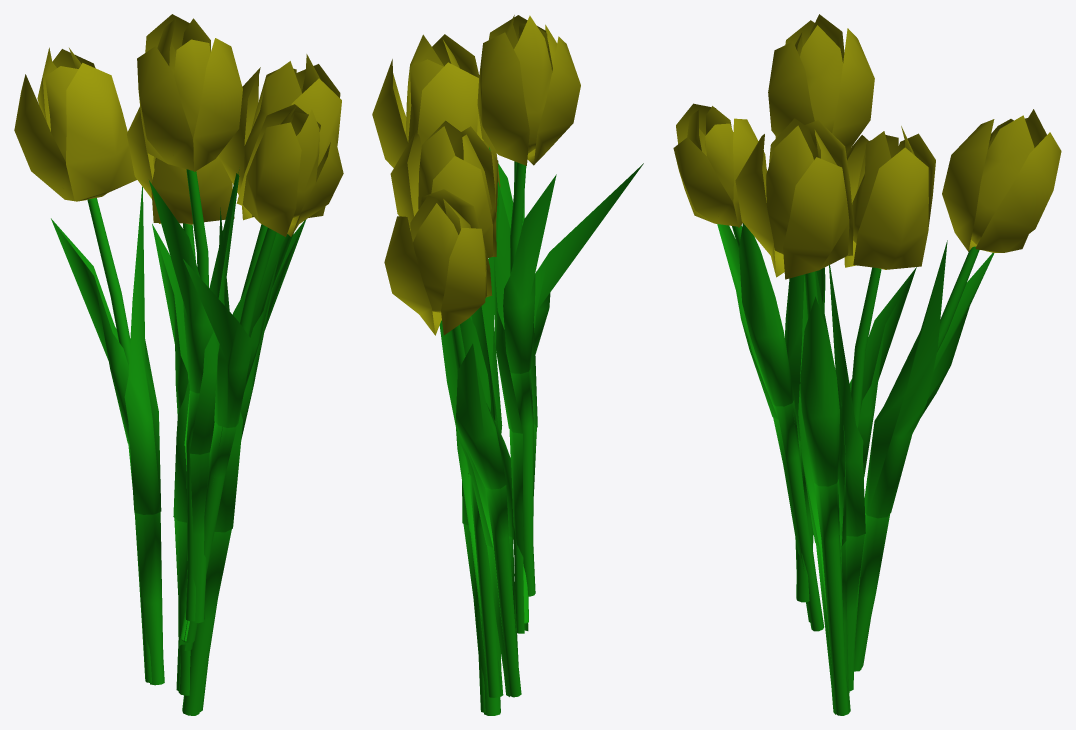
File: flowerSet_yujinxiang.dae
The picture shows the model from 3 angles, left to right: view 1: azimuth 30°, elevation 25°; view 2: azimuth 150°, elevation 25°; view 3: azimuth 270°, elevation 25°; orthographic projection. The views are drawn at different scales.
Visible parts, largest first — view 1: YuJinXiang-4, YuJinXiang-1, YuJinXiang-5, YuJinXiang-3, YuJinXiang-2; view 2: YuJinXiang-1, YuJinXiang-4, YuJinXiang-2, YuJinXiang-3, YuJinXiang-5; view 3: YuJinXiang-3, YuJinXiang-4, YuJinXiang-2, YuJinXiang-5, YuJinXiang-1.
Boxes of the visible parts, bbox=[...] form: YuJinXiang-4: bbox=[14, 47, 164, 685]; YuJinXiang-1: bbox=[137, 14, 242, 623]; YuJinXiang-5: bbox=[179, 104, 343, 650]; YuJinXiang-3: bbox=[182, 54, 341, 715]; YuJinXiang-2: bbox=[127, 107, 234, 695]; YuJinXiang-1: bbox=[477, 15, 580, 596]; YuJinXiang-4: bbox=[384, 189, 521, 697]; YuJinXiang-2: bbox=[390, 120, 503, 697]; YuJinXiang-3: bbox=[372, 34, 502, 715]; YuJinXiang-5: bbox=[498, 15, 643, 633]; YuJinXiang-3: bbox=[735, 118, 853, 715]; YuJinXiang-4: bbox=[854, 109, 1061, 671]; YuJinXiang-2: bbox=[829, 126, 935, 692]; YuJinXiang-5: bbox=[673, 103, 824, 631]; YuJinXiang-1: bbox=[768, 14, 874, 602].
Size of the model in its own units: 0.2006 by 0.6418 by 0.329.
